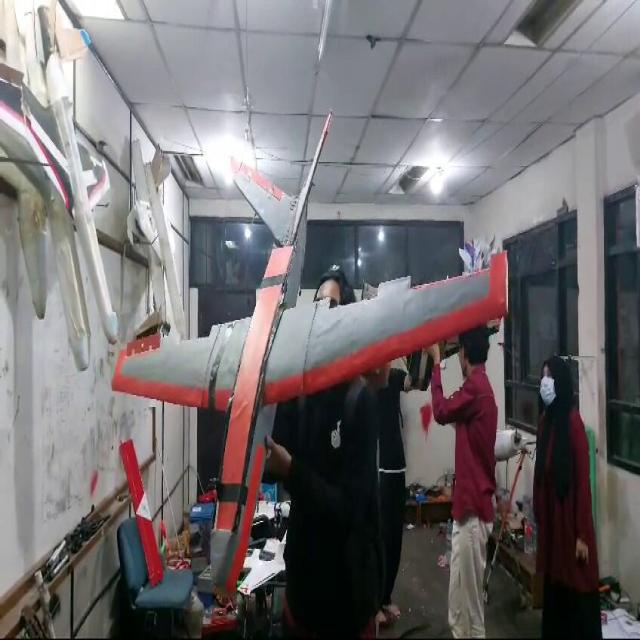plane: (110, 107, 509, 601)
